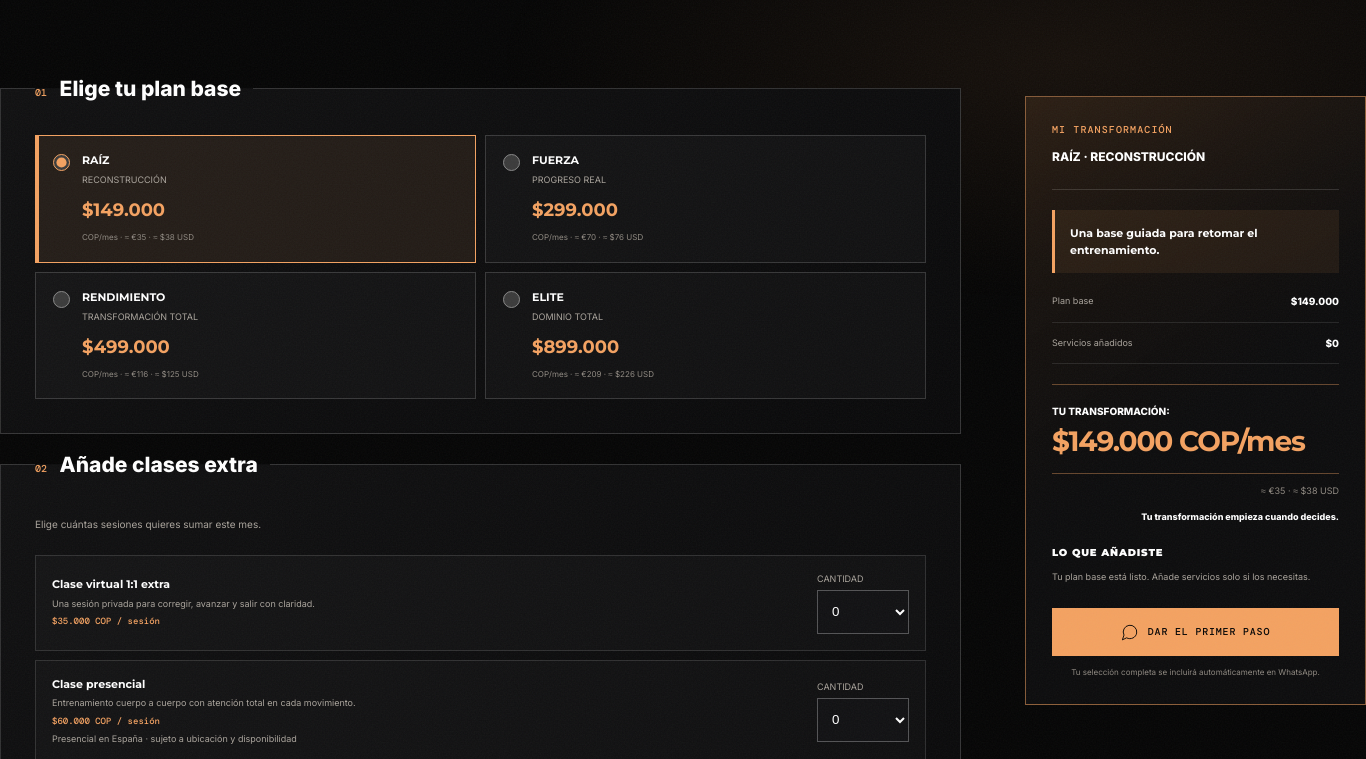
Scenario: PlanCalculator › consume los planes compartidos y actualiza el total y WhatsApp
Expected: the element "Elige tu plan base" is shown, [0,76,961,434]
Expected: the radio button labelled "RAÍZ RECONSTRUCCIÓN $149.000 COP/mes · ≈ €35 · ≈ $38 USD" is checked, [53,154,70,171]
Select "2" in the dropdown labelled "Clase virtual 1:1" at (863, 612), box [817,590,909,634]
(page scrolled)
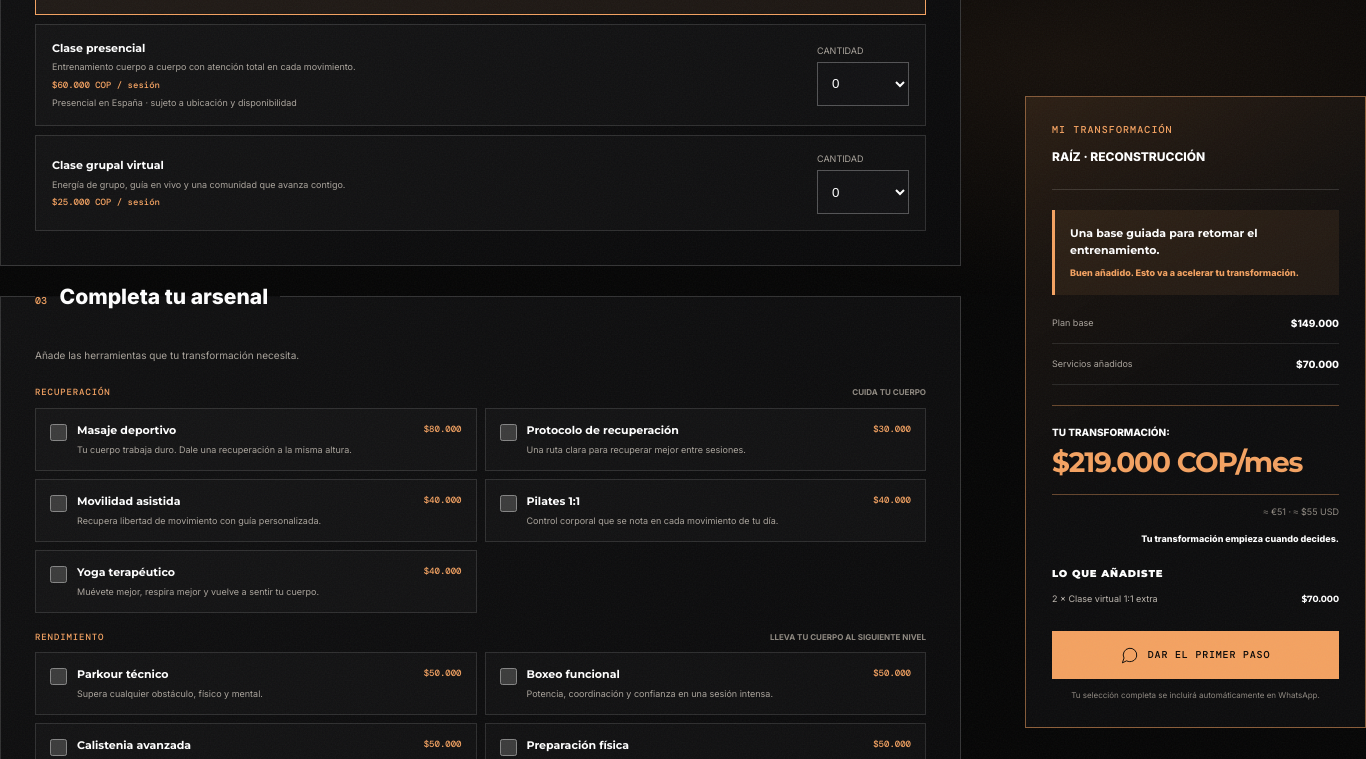
Click the checkbox labelled "Masaje deportivo" at (58, 432), box [50,424,67,441]
(page scrolled)
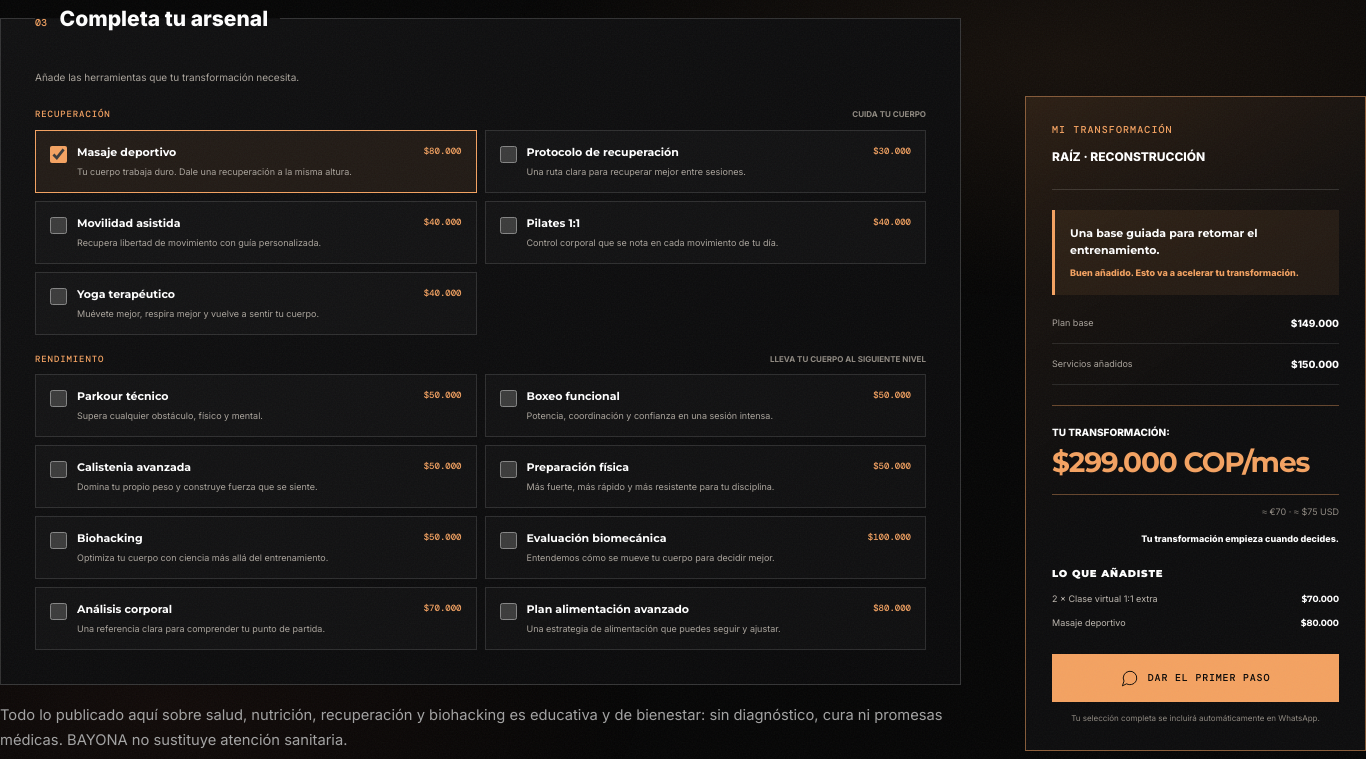
Click the checkbox labelled "Biohacking" at (58, 540), box [50,532,67,549]
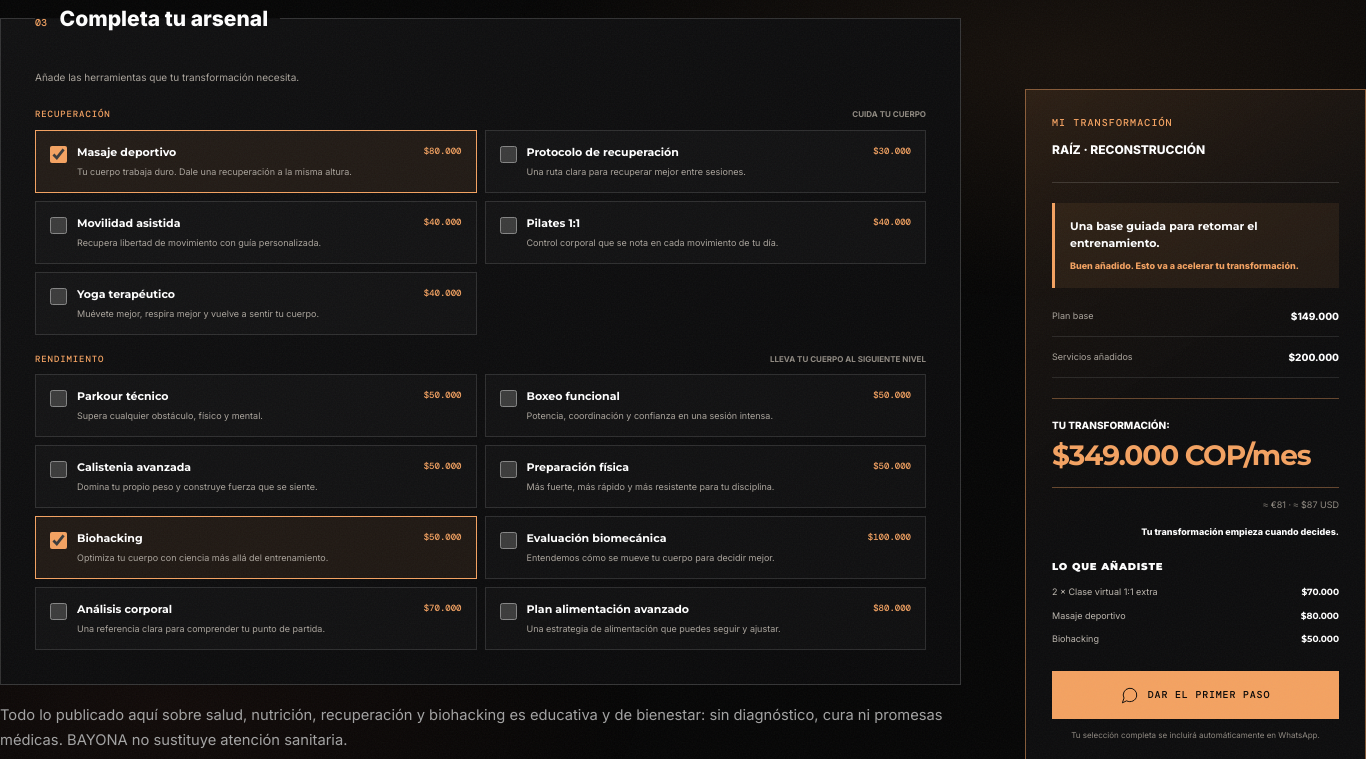
Result: the text "$349.000 COP/mes" is shown at [1052,441,1339,469]
